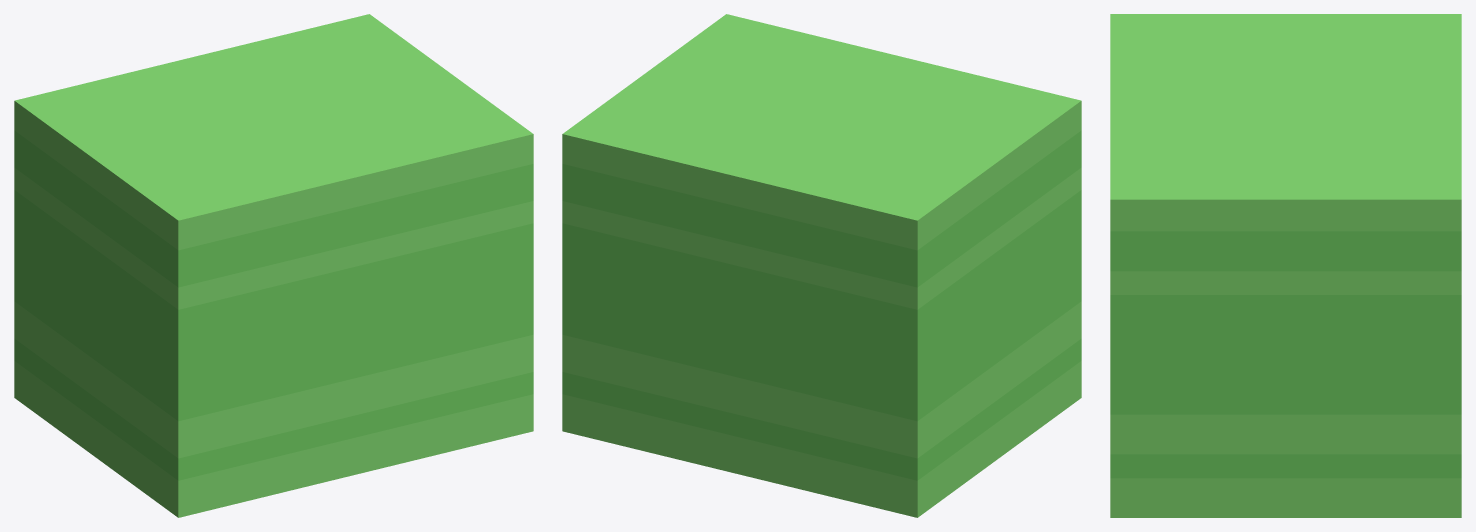
Rendered from tree_oak_01-3.obj.
3 renders of one model, left to right at view 1: azimuth 30°, elevation 25°; view 2: azimuth 150°, elevation 25°; view 3: azimuth 270°, elevation 25°, orthographic. The views are drawn at different scales.
Size of the model in its own units: 5 by 4 by 4.
1 material, 1 textured.
